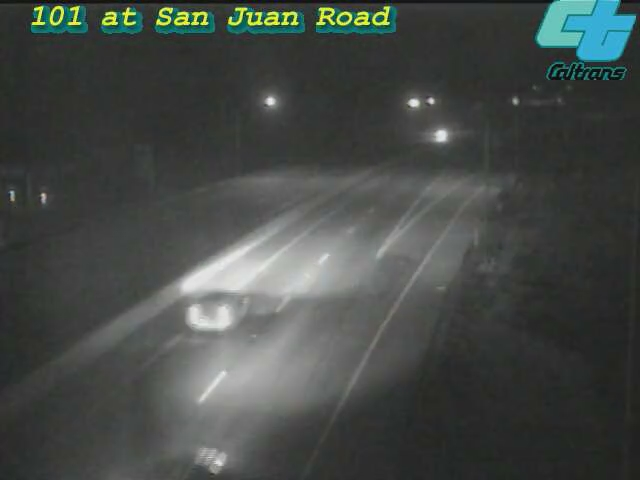vehicle: (119, 415, 229, 480), (175, 271, 255, 351), (416, 109, 466, 159)
